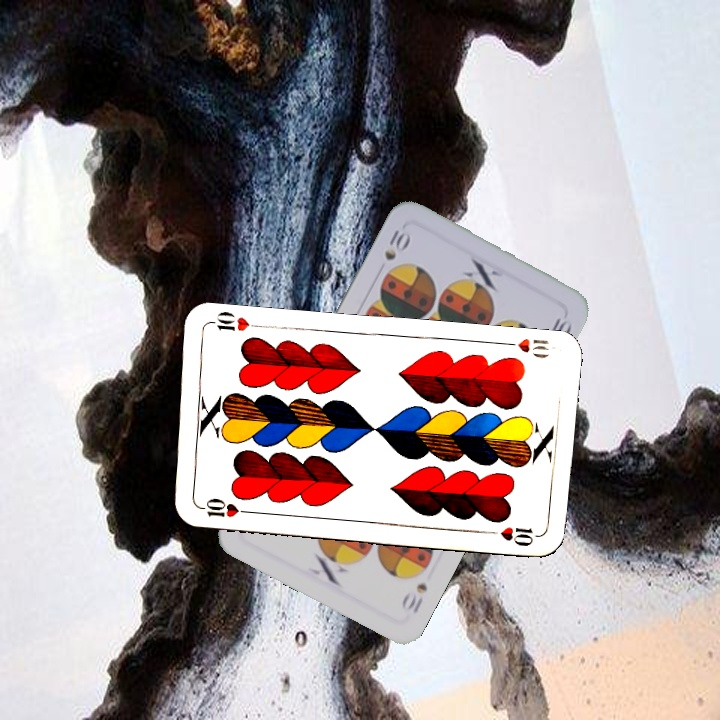H10: (193, 495, 252, 520), (498, 334, 552, 361)
S10: (397, 578, 430, 617), (380, 225, 413, 263)
